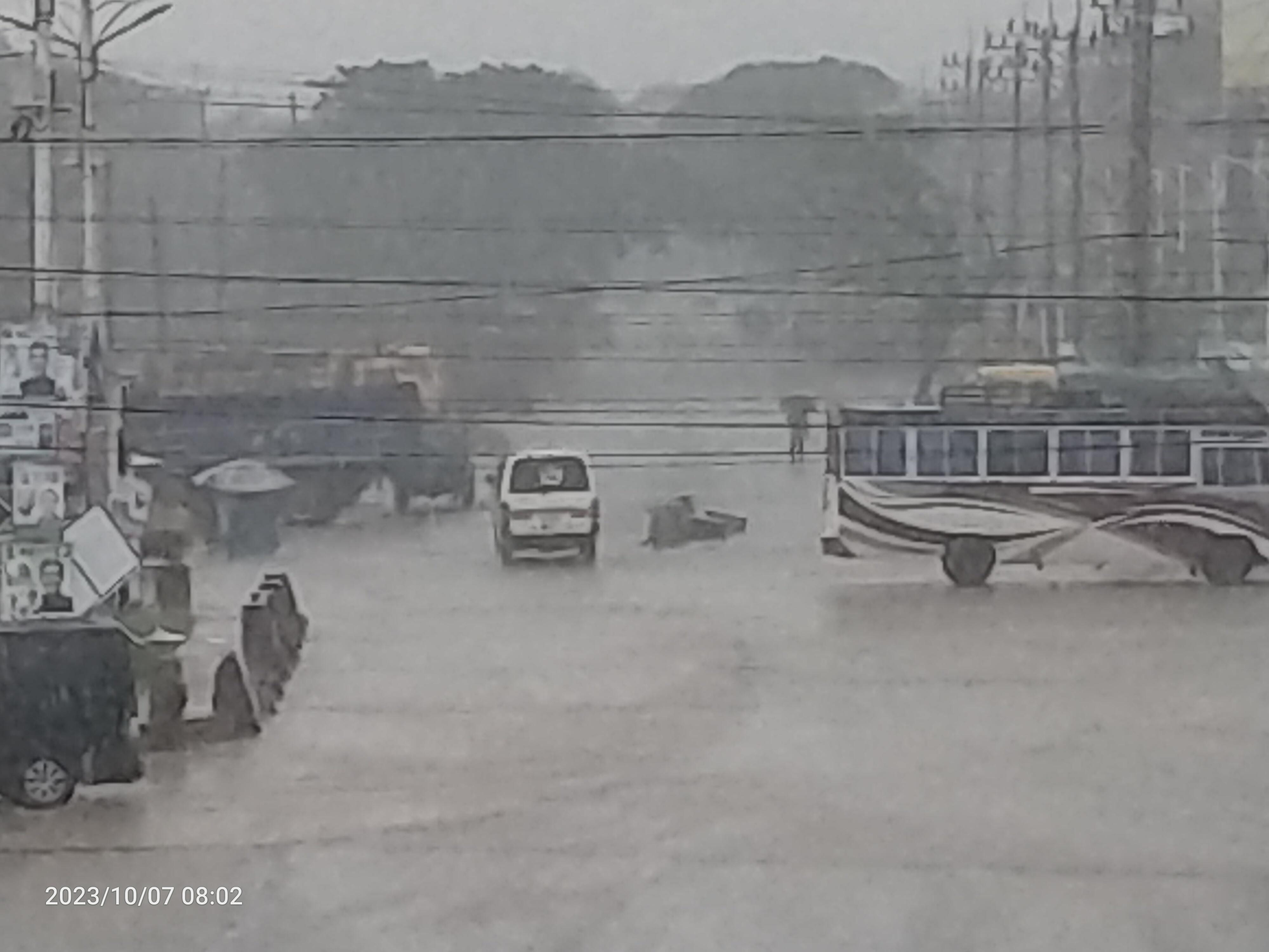Bus: (793, 361, 1269, 619)
Car: (0, 586, 159, 826), (470, 429, 633, 586)
